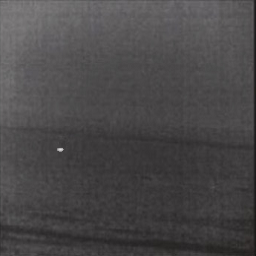Target: (55, 147, 65, 154)
